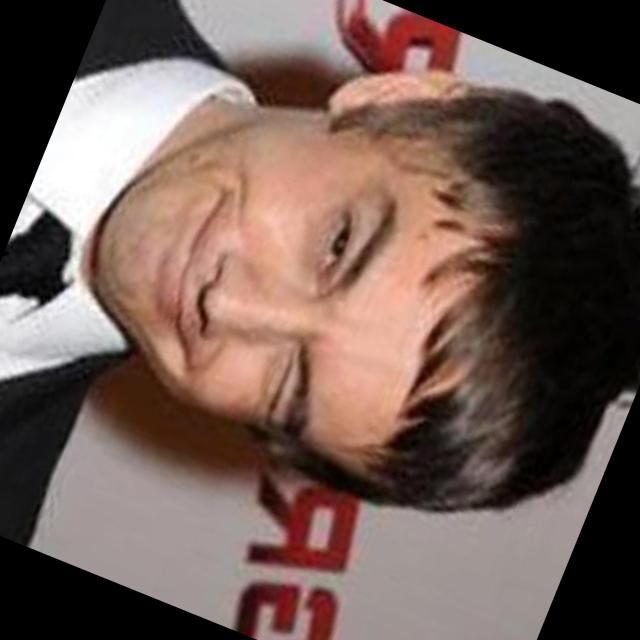bareface: (36, 0, 640, 567)
